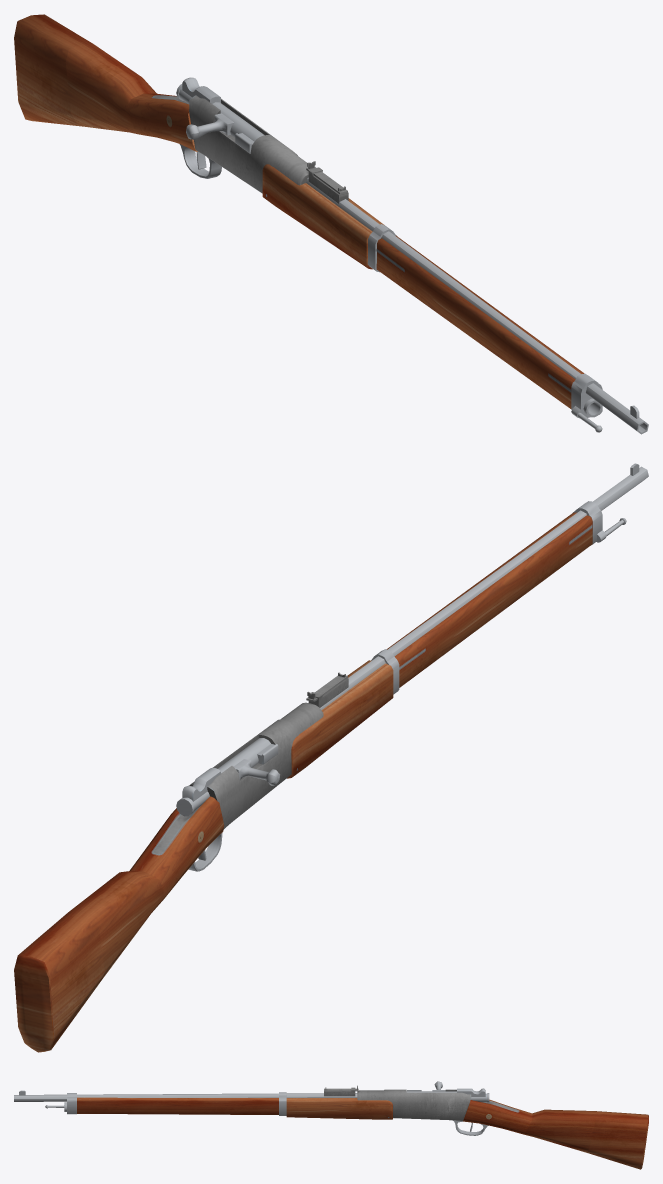
3 views of the same model, one above another, from view 1: azimuth 30°, elevation 25°; view 2: azimuth 150°, elevation 25°; view 3: azimuth 270°, elevation 25° (orthographic). The views are drawn at different scales.
Parts seen in each view (by area): view 1: 土枪001; view 2: 土枪001; view 3: 土枪001.
Part boxes in pixels (x1=…): 土枪001: x1=14, y1=14, x2=648, y2=434; 土枪001: x1=14, y1=463, x2=648, y2=1052; 土枪001: x1=14, y1=1081, x2=648, y2=1169.
Size of the model in its own units: 0.0651 by 0.1586 by 1.1.
